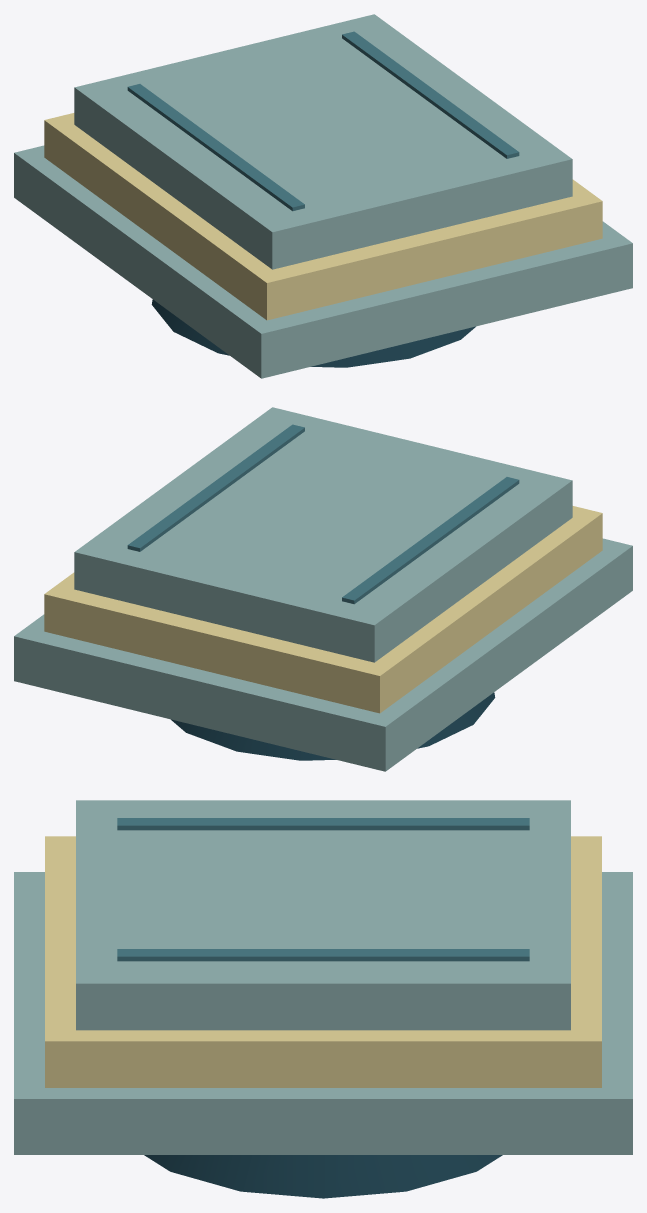
The model's file is pelagic_high_pressure--armor_plate.glb.
3 renders of one model, top to bottom at view 1: azimuth 30°, elevation 25°; view 2: azimuth 150°, elevation 25°; view 3: azimuth 270°, elevation 25°, orthographic. The views are drawn at different scales.
Visible parts, largest first — view 1: layered_armor_5, layered_armor_3, layered_armor_4, armor_brace_7, armor_brace_6, mount_adapter_1; view 2: layered_armor_5, layered_armor_3, layered_armor_4, armor_brace_7, armor_brace_6, mount_adapter_1; view 3: layered_armor_5, layered_armor_3, layered_armor_4, mount_adapter_1, armor_brace_6, armor_brace_7.
Boxes of the visible parts, left/top/right/bottom form: layered_armor_5: left=74, top=14, right=572, bottom=269; layered_armor_3: left=14, top=145, right=632, bottom=378; layered_armor_4: left=44, top=113, right=602, bottom=320; armor_brace_7: left=342, top=31, right=519, bottom=158; armor_brace_6: left=127, top=84, right=304, bottom=211; mount_adapter_1: left=151, top=299, right=475, bottom=367; layered_armor_5: left=74, top=407, right=572, bottom=662; layered_armor_3: left=14, top=538, right=632, bottom=771; layered_armor_4: left=44, top=506, right=602, bottom=713; armor_brace_7: left=127, top=424, right=304, bottom=551; armor_brace_6: left=342, top=477, right=519, bottom=604; mount_adapter_1: left=171, top=692, right=495, bottom=760; layered_armor_5: left=76, top=800, right=570, bottom=1030; layered_armor_3: left=14, top=872, right=632, bottom=1154; layered_armor_4: left=45, top=836, right=601, bottom=1087; mount_adapter_1: left=144, top=1155, right=502, bottom=1198; armor_brace_6: left=117, top=818, right=529, bottom=830; armor_brace_7: left=117, top=949, right=529, bottom=961.
Size of the model in its own units: 24.96 by 11.28 by 28.8.
